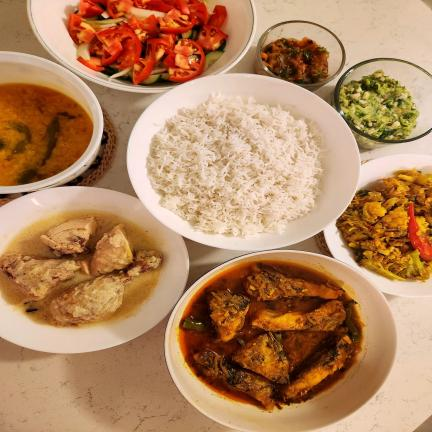bhaat: (147, 94, 322, 236)
